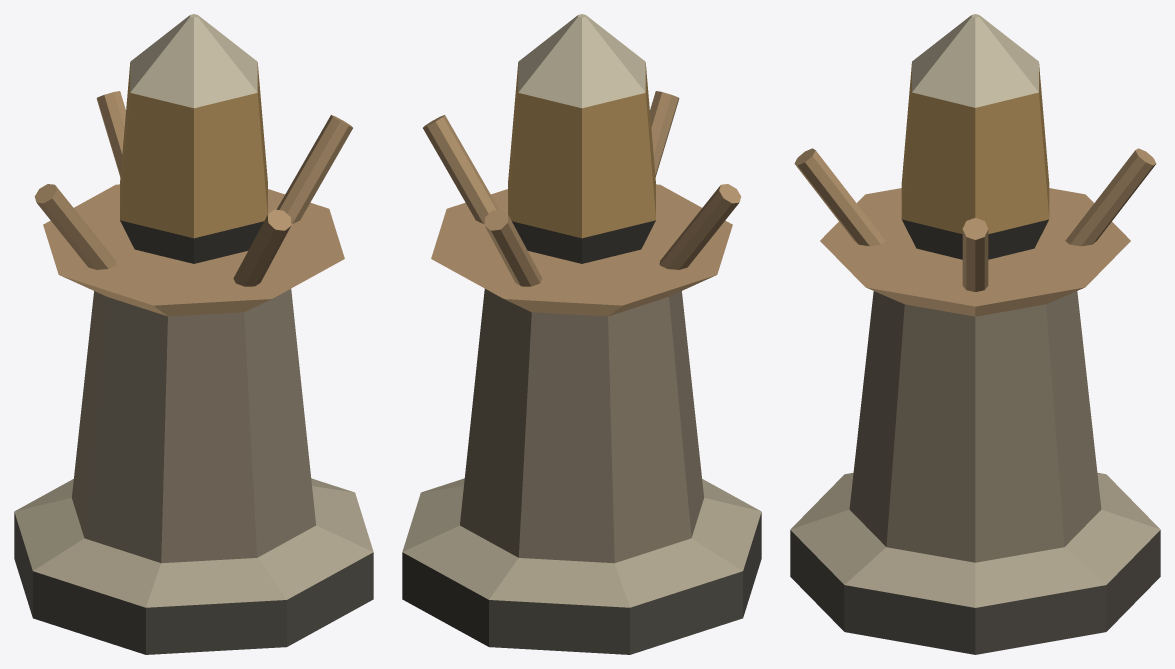
Rendered from beacon-active.glb.
3 renders of one model, left to right at view 1: azimuth 30°, elevation 25°; view 2: azimuth 150°, elevation 25°; view 3: azimuth 270°, elevation 25°, orthographic.
Parts seen in each view (by area): view 1: beacon-active__body; view 2: beacon-active__body; view 3: beacon-active__body.
Boxes of the visible parts, bbox=[...] form: beacon-active__body: bbox=[14, 14, 373, 654]; beacon-active__body: bbox=[402, 14, 761, 654]; beacon-active__body: bbox=[790, 14, 1160, 654].
Size of the model in its own units: 1 by 1.67 by 1.
